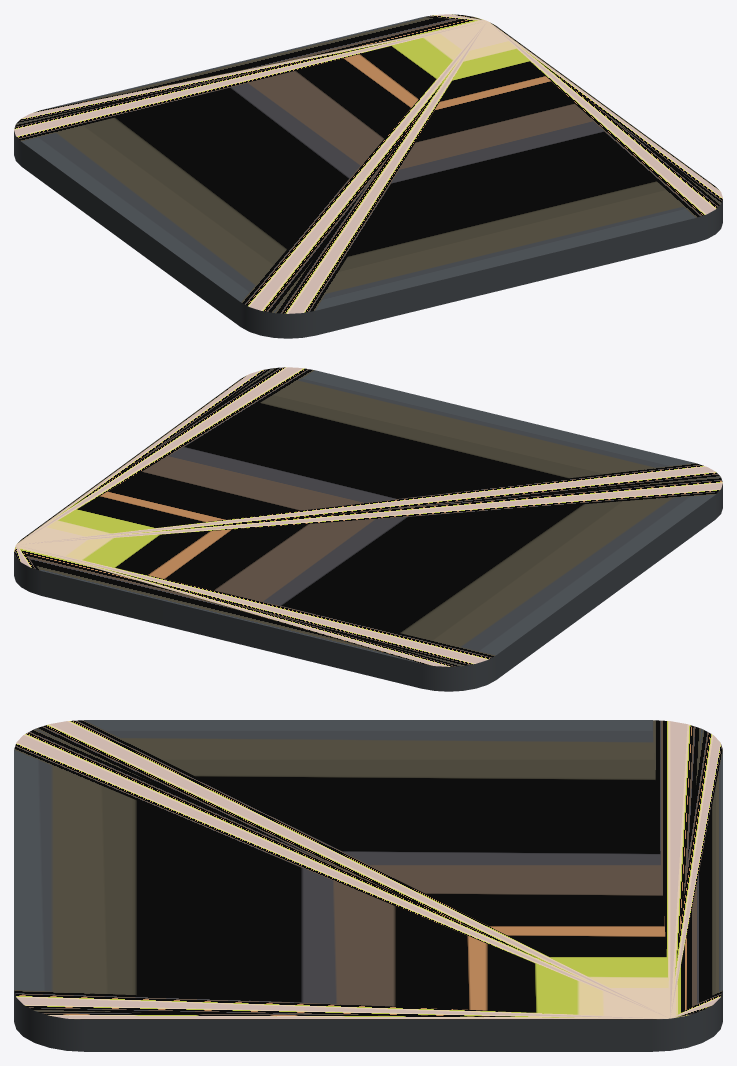
The model's file is BuildingGround.fbx.
3 renders of one model, top to bottom at view 1: azimuth 30°, elevation 25°; view 2: azimuth 150°, elevation 25°; view 3: azimuth 270°, elevation 25°, orthographic. The views are drawn at different scales.
Visible parts, largest first — view 1: BuildingGround; view 2: BuildingGround; view 3: BuildingGround.
Boxes of the visible parts, left/top/right/bottom form: BuildingGround: left=14, top=14, right=722, bottom=338; BuildingGround: left=14, top=367, right=722, bottom=691; BuildingGround: left=14, top=720, right=722, bottom=1051.
Size of the model in its own units: 1000 by 50 by 1000.
